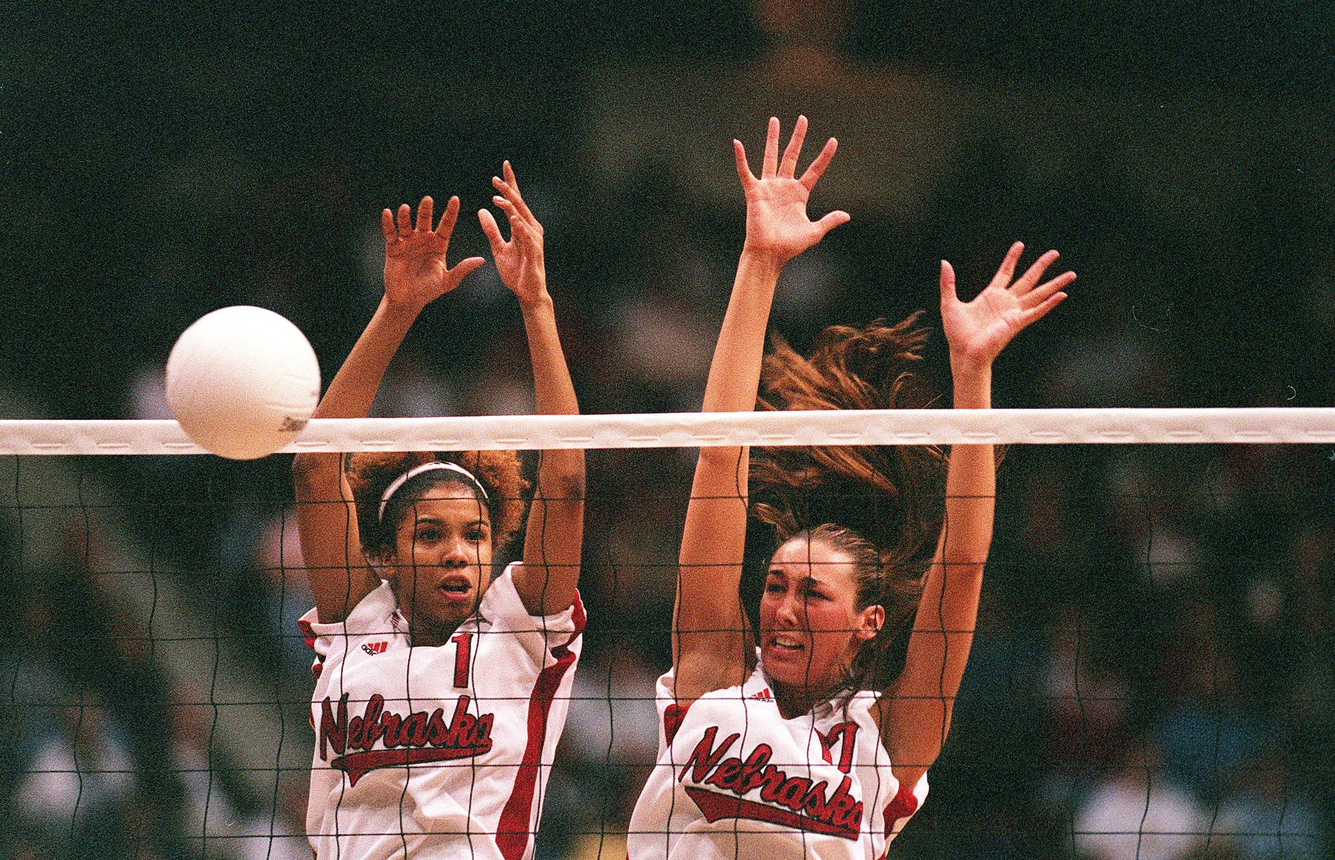ballon_volley: (163, 302, 321, 463)
